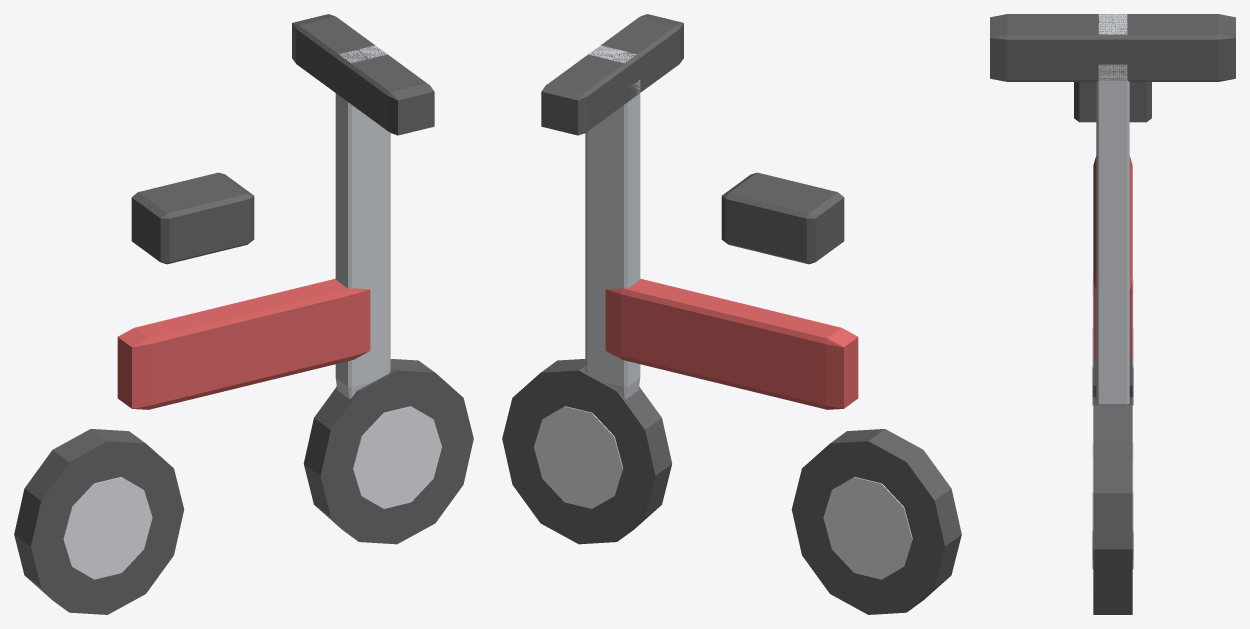
The model's file is b03_battery_kick_scooter.glb.
3 views of the same model, side by side, from view 1: azimuth 30°, elevation 25°; view 2: azimuth 150°, elevation 25°; view 3: azimuth 270°, elevation 25° (orthographic). The views are drawn at different scales.
Parts seen in each view (by area): view 1: b03_battery_kick_scooter; view 2: b03_battery_kick_scooter; view 3: b03_battery_kick_scooter.
Part boxes in pixels (left/top/right/bottom): b03_battery_kick_scooter: left=14, top=14, right=473, bottom=614; b03_battery_kick_scooter: left=502, top=14, right=961, bottom=614; b03_battery_kick_scooter: left=990, top=14, right=1235, bottom=614.
Size of the model in its own units: 1.13 by 1.2 by 0.47.
